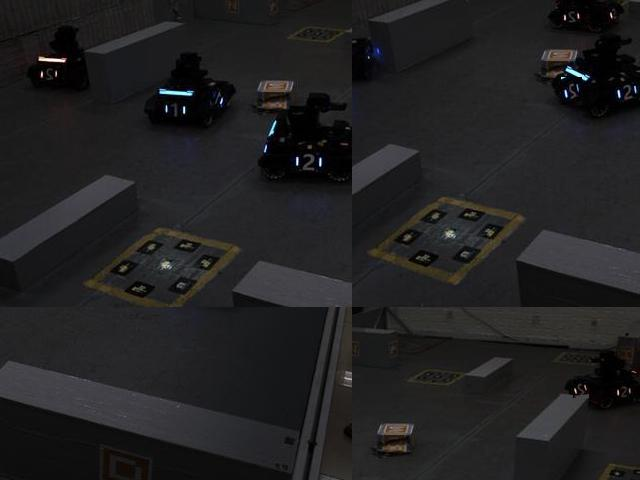armor: (295, 148, 327, 177), (159, 96, 190, 124), (612, 78, 639, 106), (561, 77, 583, 106), (562, 7, 586, 27), (38, 64, 63, 83), (211, 87, 229, 111), (613, 380, 633, 401), (573, 380, 590, 400)
